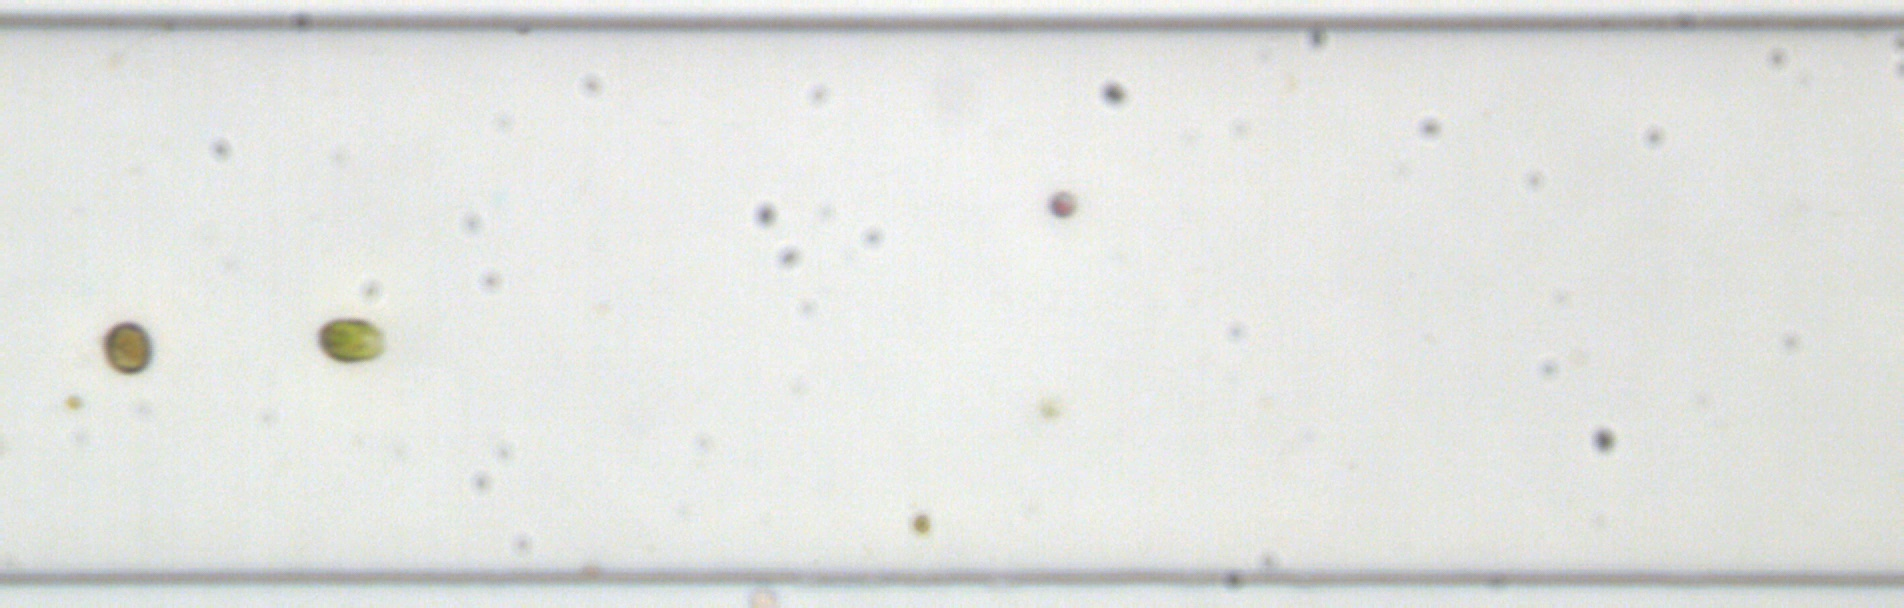Chlorella: (63, 390, 84, 411), (911, 512, 929, 533)
Effrenium: (101, 318, 153, 376)
Platymonas: (314, 314, 389, 365)
Porphyridium: (1047, 188, 1078, 217)
